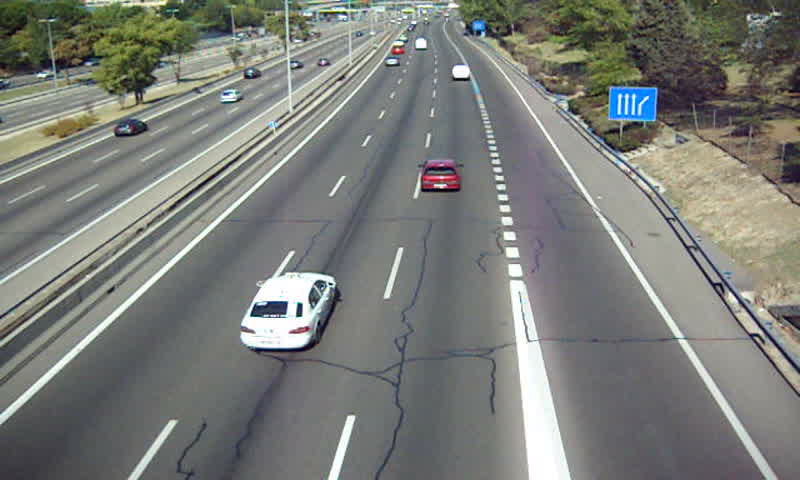car: (240, 271, 335, 348), (421, 160, 460, 191), (384, 55, 400, 67)
van: (451, 64, 469, 80)
